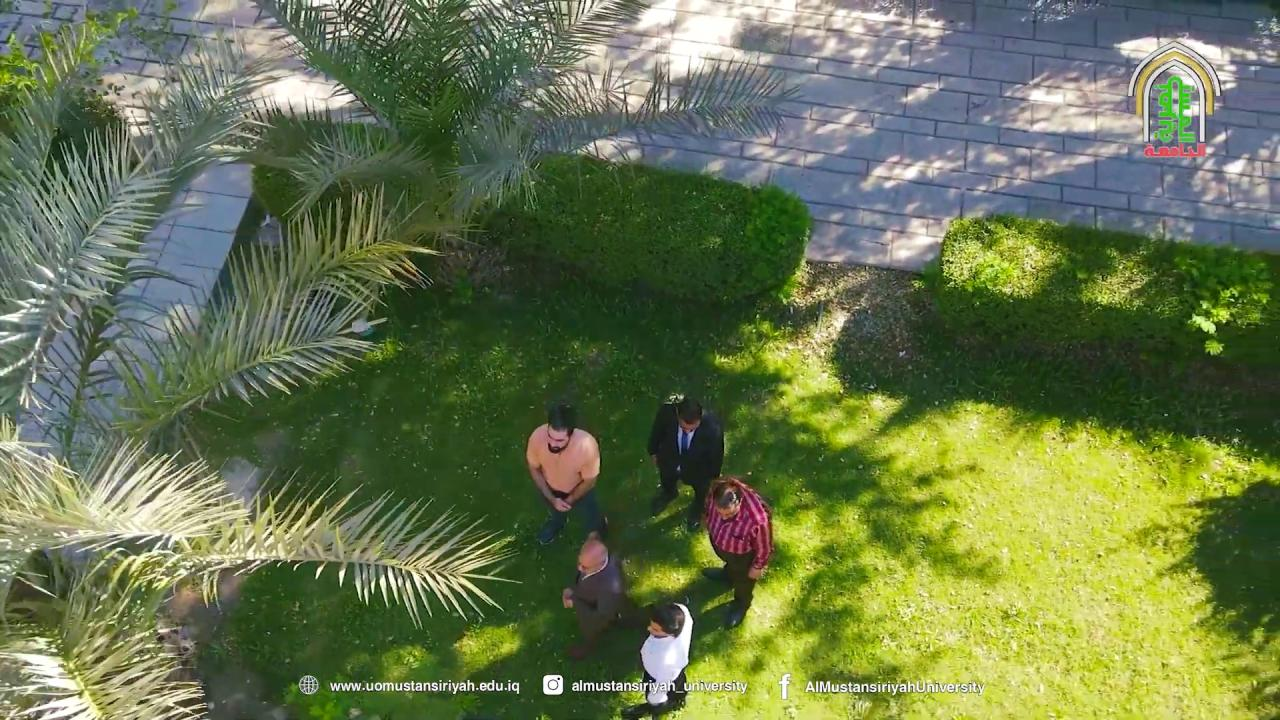fountain: (1, 416, 522, 717)
person: (525, 402, 608, 545), (701, 476, 774, 630), (647, 396, 724, 532), (621, 600, 693, 718), (561, 537, 625, 660)
tree: (216, 0, 808, 304)
